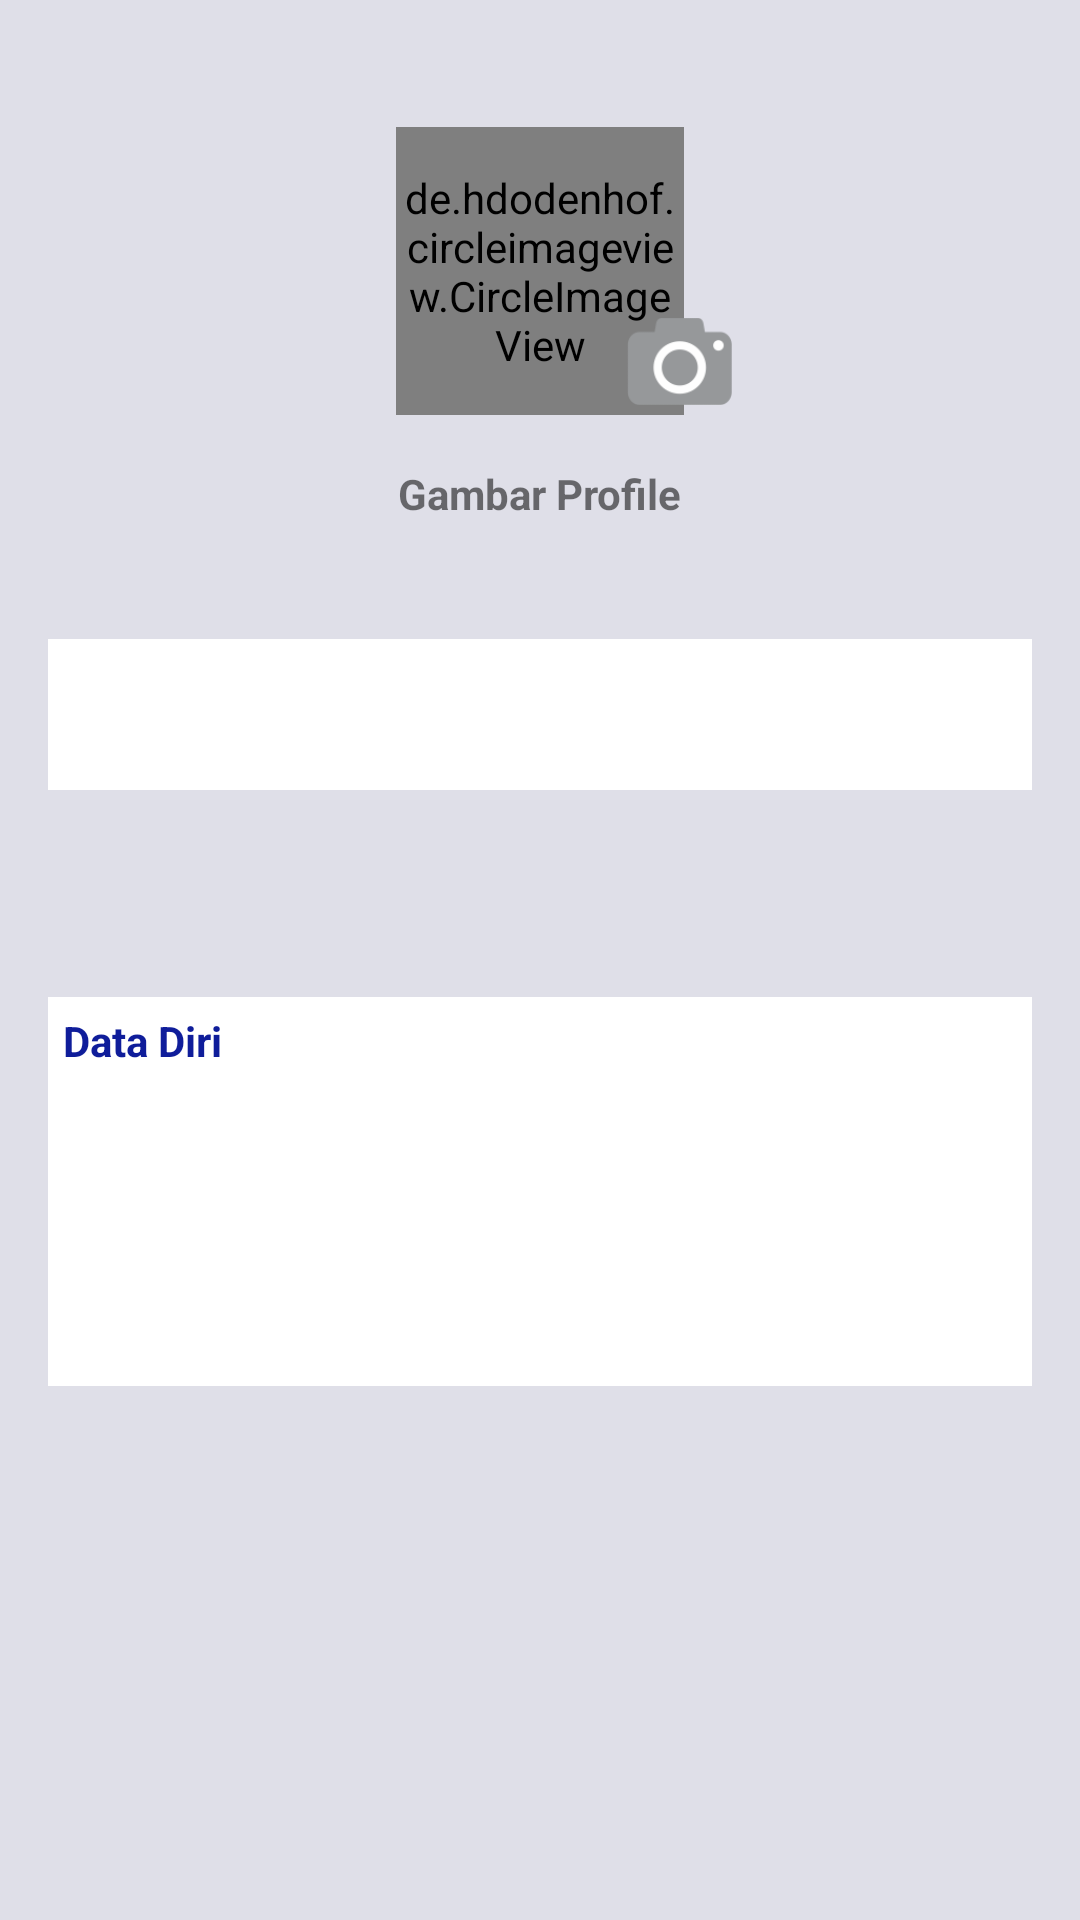

Named icons in this screenshot (1080x1920) and their centers, (x,y):
camera: (679,361)
